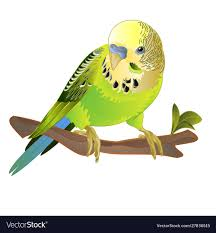budgie: (24, 19, 166, 167)
